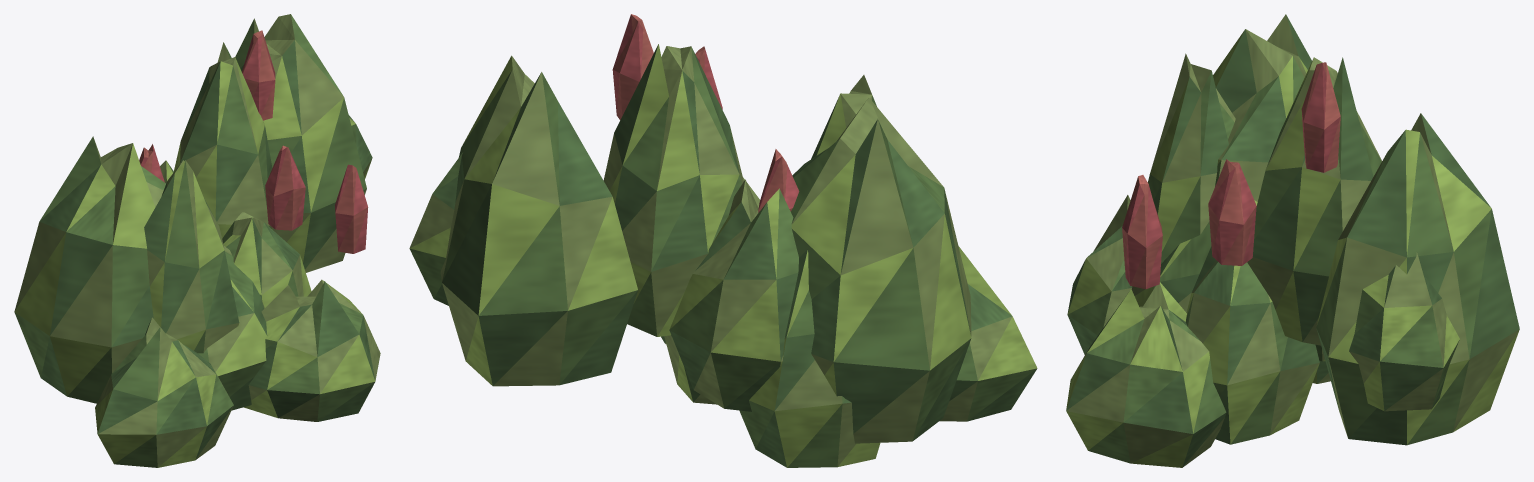
File: bush_berry_02.fbx
3 renders of one model, left to right at view 1: azimuth 30°, elevation 25°; view 2: azimuth 150°, elevation 25°; view 3: azimuth 270°, elevation 25°, orthographic. The views are drawn at different scales.
Parts seen in each view (by area): view 1: bush_berry_02; view 2: bush_berry_02; view 3: bush_berry_02.
Part boxes in pixels (bbox=[...]): bush_berry_02: bbox=[14, 14, 380, 467]; bush_berry_02: bbox=[409, 14, 1037, 467]; bush_berry_02: bbox=[1066, 14, 1519, 467].
Bounding box in the file's own units: 161 × 130 × 135.
Materials: 1 (1 with a texture image).
